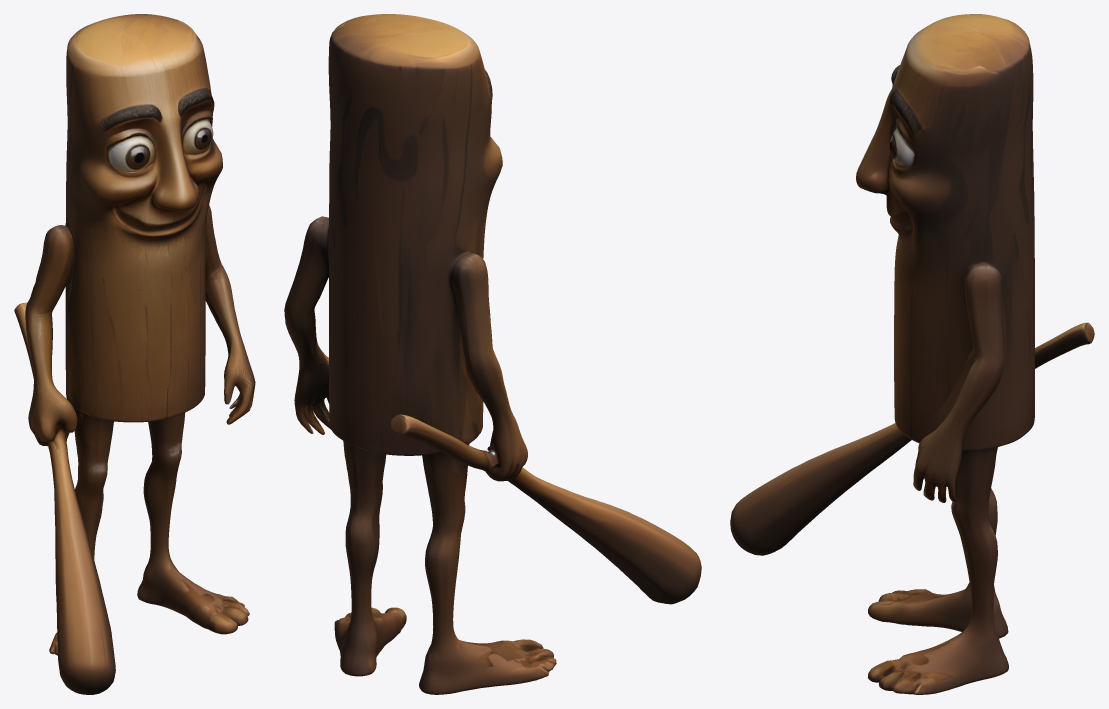
The model's file is TungTungTungSahur.fbx.
3 renders of one model, left to right at view 1: azimuth 30°, elevation 25°; view 2: azimuth 150°, elevation 25°; view 3: azimuth 270°, elevation 25°, orthographic. The views are drawn at different scales.
Parts seen in each view (by area): view 1: model.001; view 2: model.001; view 3: model.001.
Part boxes in pixels (left/top/right/bottom): model.001: left=14, top=14, right=255, bottom=694; model.001: left=284, top=14, right=701, bottom=694; model.001: left=730, top=14, right=1094, bottom=694.
Size of the model in its own units: 704 by 1415 by 754.
1 material, 1 textured.
